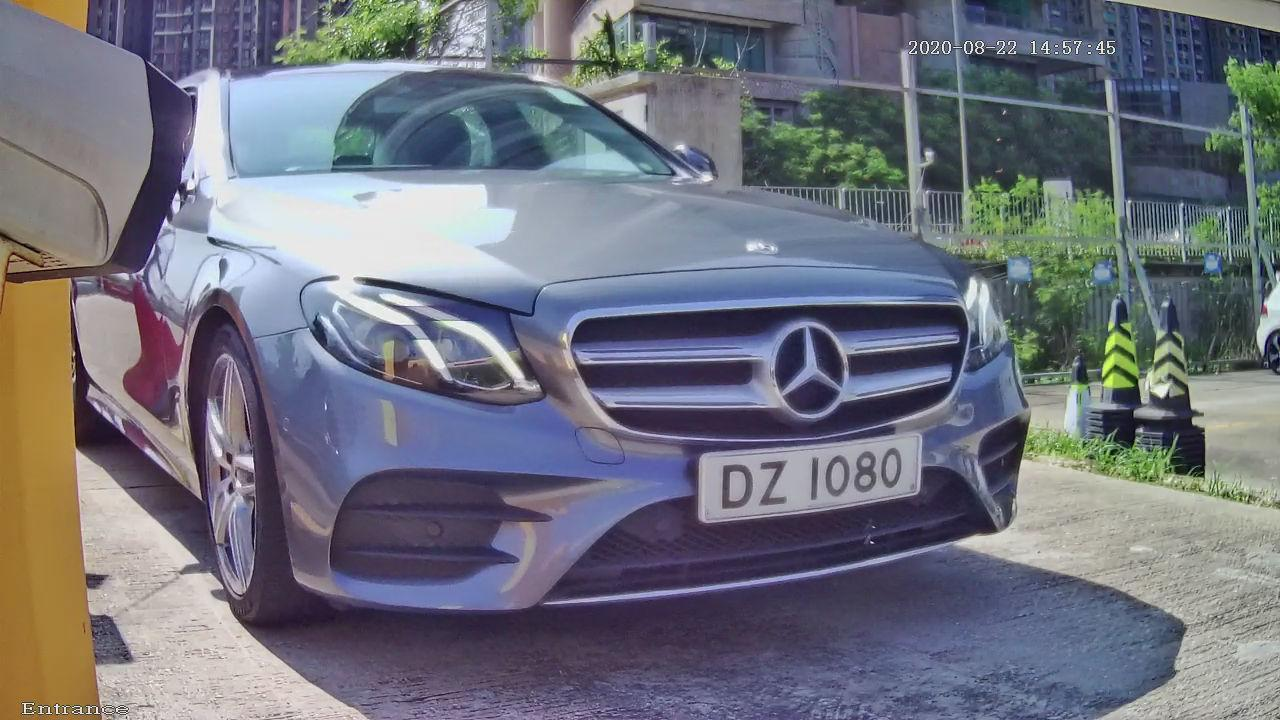Car: (41, 4, 1121, 679)
License Plate: (627, 393, 975, 556)
